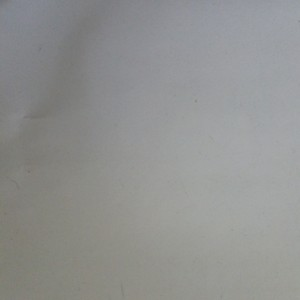base: (1, 1, 299, 299)
